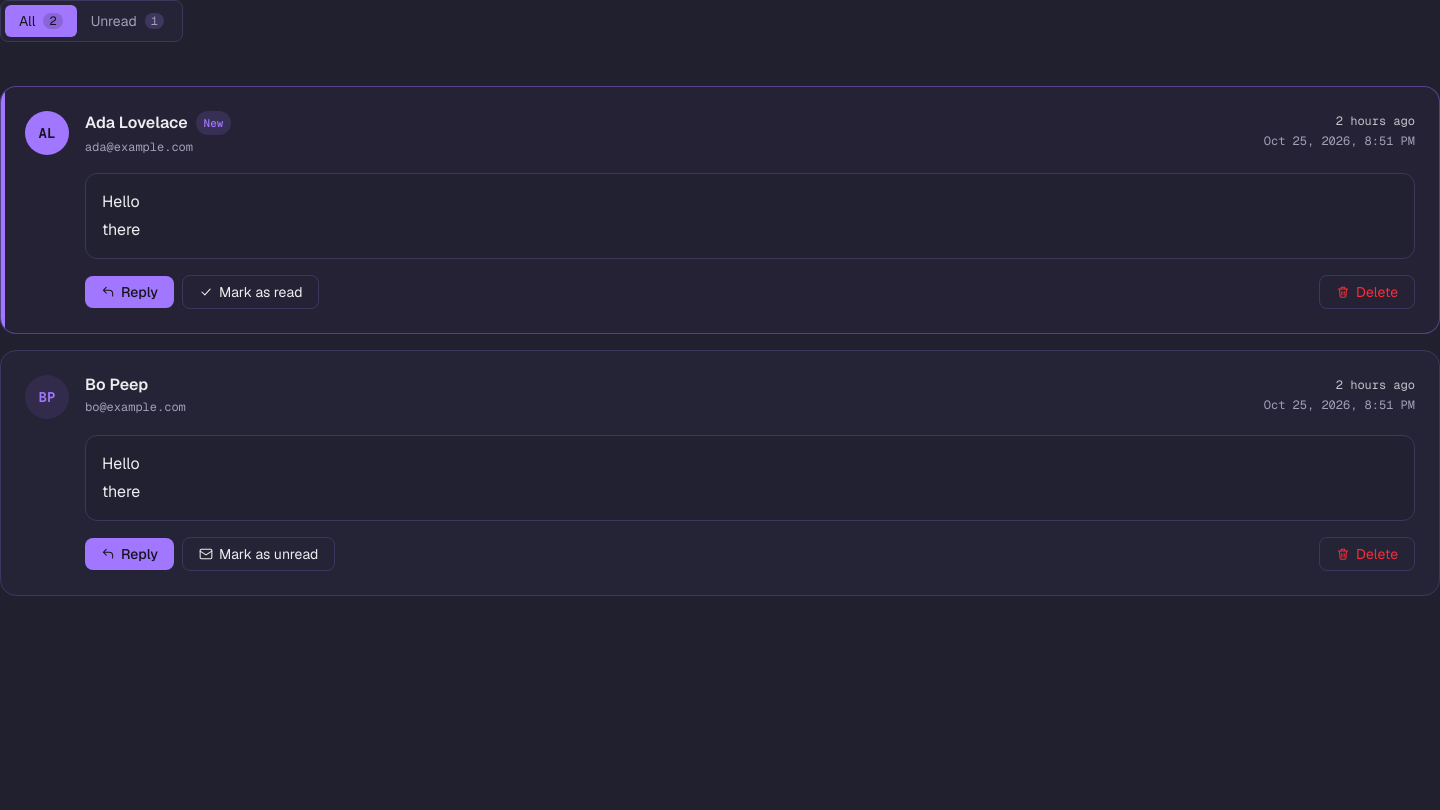
Scenario: MessageList › asks before deleting, and deletes only after confirming
Click the 1st button "Delete" at (1367, 292), box [1319,275,1415,309]
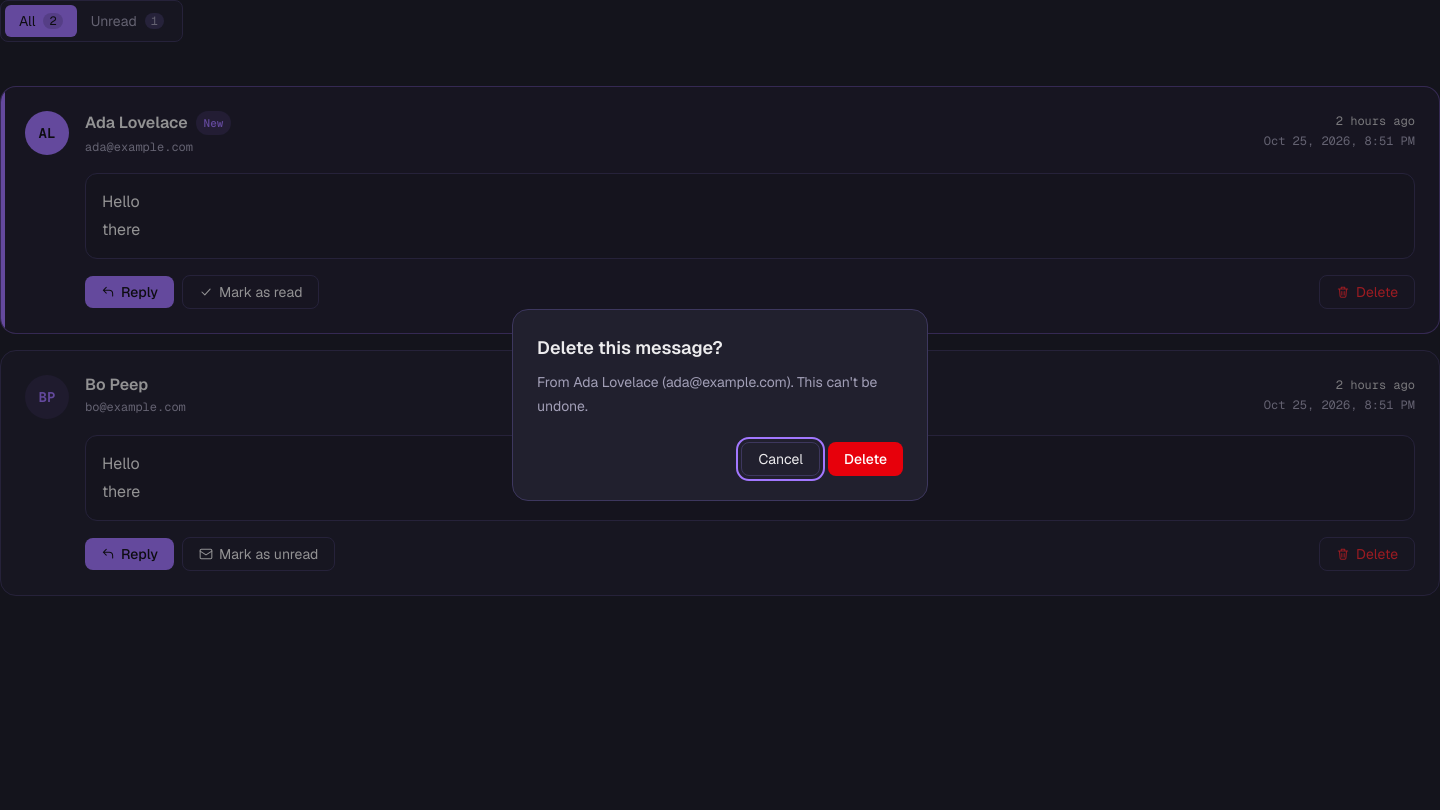
Click the button "Delete" at (865, 459), box [828,442,903,476]
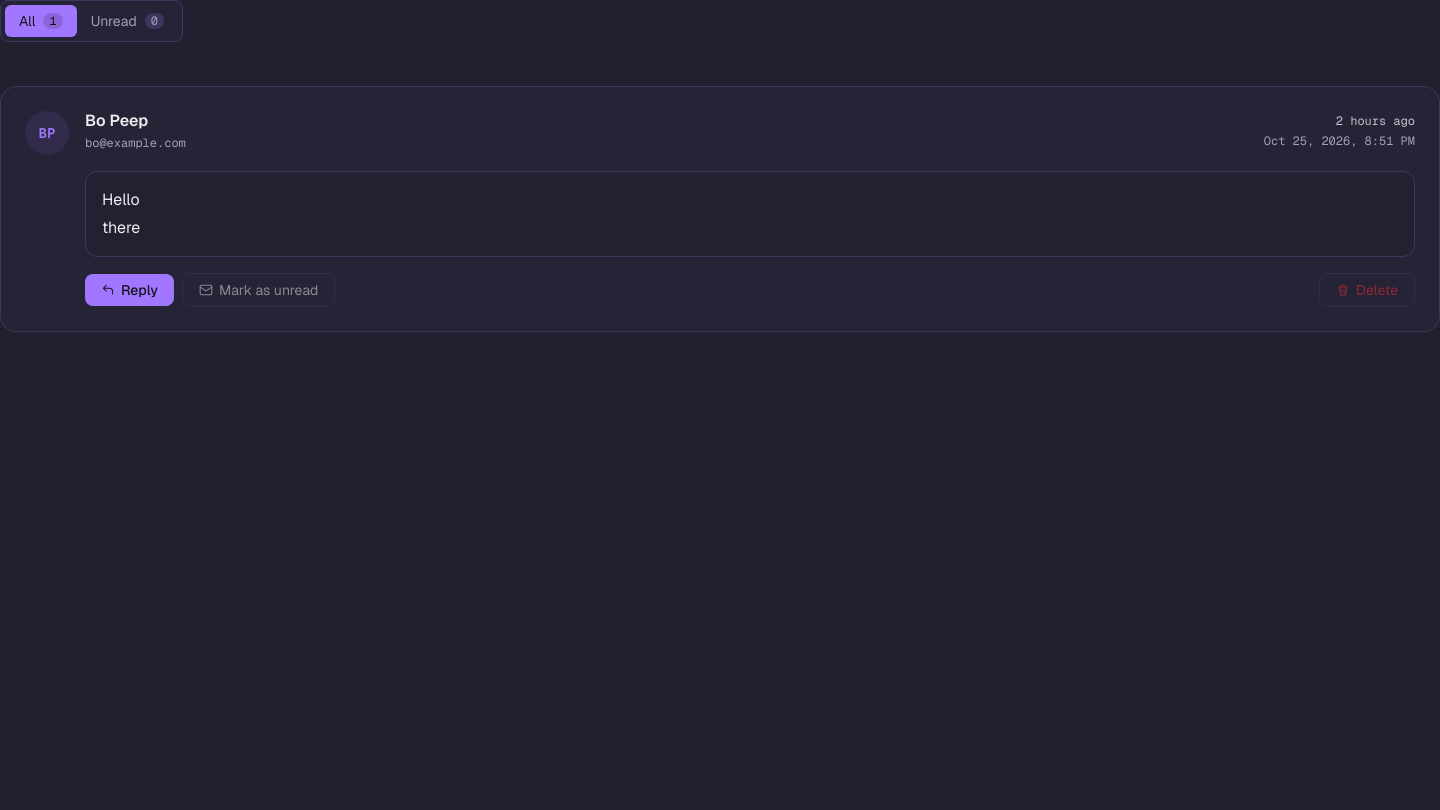
Result: the number of list items is 1 at [0,86,1439,332]
